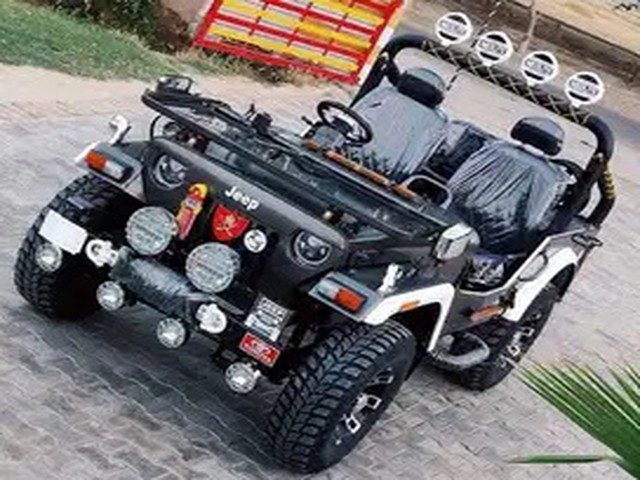Vehicle: (11, 29, 620, 475)
